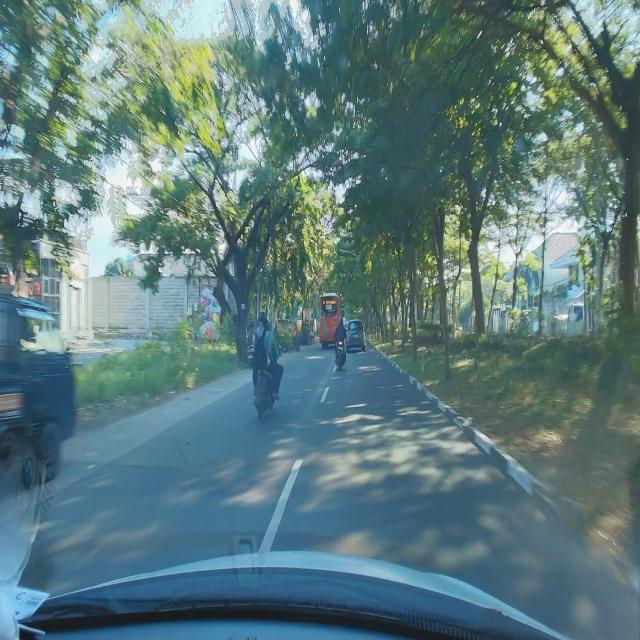bus: (320, 290, 342, 348)
car: (346, 318, 367, 356)
